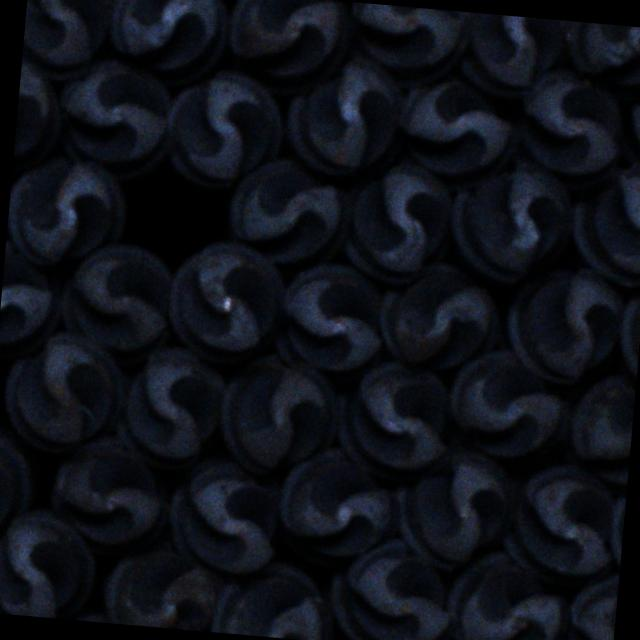tool_b: (445, 156, 578, 288), (0, 324, 130, 454), (212, 351, 340, 480), (157, 65, 285, 194), (392, 443, 520, 571), (332, 358, 460, 486), (269, 444, 396, 572), (161, 236, 286, 366), (502, 262, 629, 388), (281, 56, 408, 182), (442, 342, 574, 463), (54, 56, 179, 183), (45, 430, 170, 555), (165, 450, 287, 576), (340, 158, 458, 288), (114, 344, 230, 476), (5, 152, 132, 272), (392, 74, 520, 193), (57, 238, 179, 362), (497, 461, 618, 586), (374, 258, 502, 376), (512, 65, 628, 192), (223, 154, 350, 270), (322, 532, 454, 640), (272, 257, 388, 376), (222, 0, 355, 98), (442, 546, 572, 640), (0, 503, 98, 620), (102, 537, 225, 630), (102, 0, 228, 86), (343, 1, 470, 84), (214, 559, 339, 640), (455, 11, 567, 98), (568, 159, 640, 290), (563, 372, 636, 486), (22, 0, 119, 80), (0, 238, 62, 363), (12, 50, 66, 177), (560, 20, 640, 100), (0, 422, 36, 552), (562, 568, 619, 640), (613, 263, 640, 389), (621, 63, 640, 184)
void: (114, 160, 234, 270)
